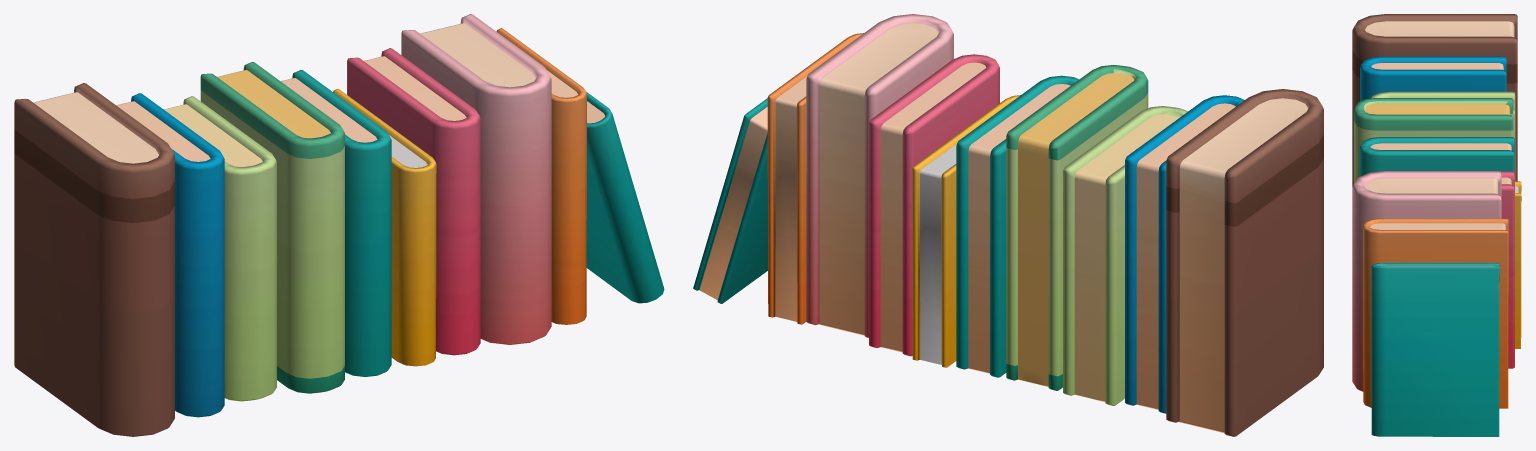
Rendered from Book_03.glb.
3 renders of one model, left to right at view 1: azimuth 30°, elevation 25°; view 2: azimuth 150°, elevation 25°; view 3: azimuth 270°, elevation 25°, orthographic. The views are drawn at different scales.
Parts seen in each view (by area): view 1: Book_03; view 2: Book_03; view 3: Book_03.
Boxes of the visible parts, x1,y1,x2,y2 form: Book_03: (14,14,664,436); Book_03: (693,14,1323,436); Book_03: (1352,14,1521,436).
Bounding box in the file's own units: 0.6973 × 0.3198 × 0.2293.
1 material, 1 textured.
